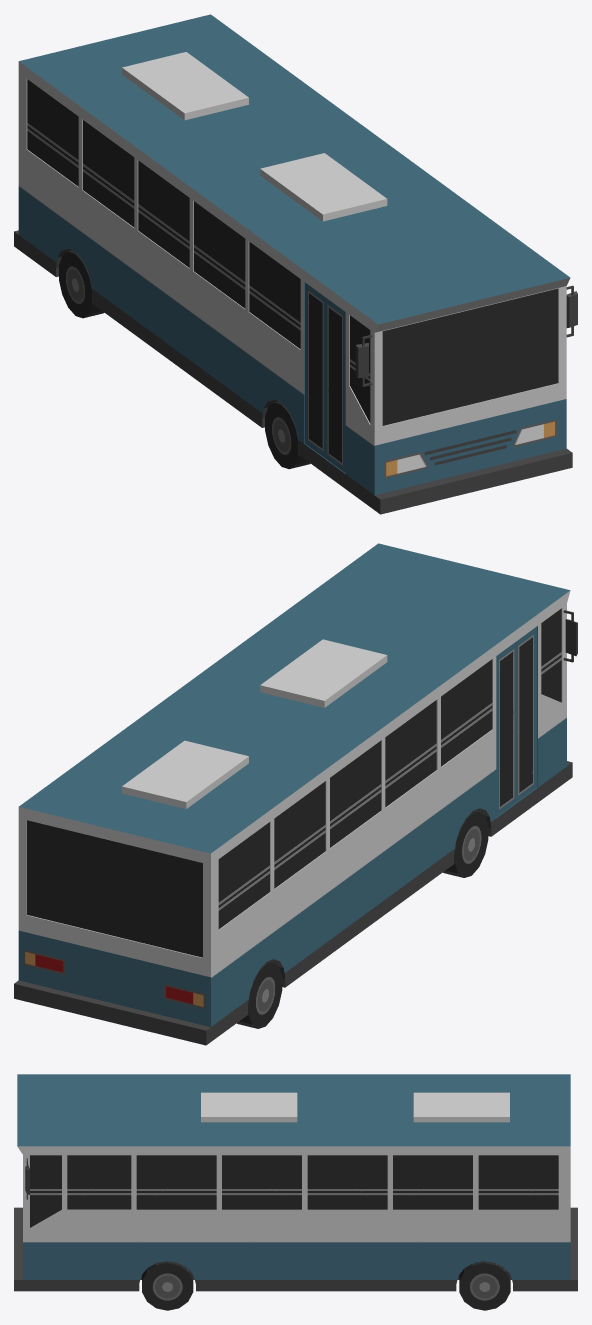
The model's file is bus.glb.
3 views of the same model, one above another, from view 1: azimuth 30°, elevation 25°; view 2: azimuth 150°, elevation 25°; view 3: azimuth 270°, elevation 25° (orthographic). The views are drawn at different scales.
Parts seen in each view (by area): view 1: Body, FR, RR; view 2: Body, RR, FR; view 3: Body, RL, FL.
Part boxes in pixels (x1,y1,x2,y2): Body: [14, 14, 577, 514]; FR: [265, 401, 310, 469]; RR: [59, 250, 104, 318]; Body: [14, 543, 577, 1045]; RR: [236, 961, 282, 1028]; FR: [443, 810, 488, 877]; Body: [14, 1074, 577, 1291]; RL: [459, 1261, 510, 1310]; FL: [142, 1261, 193, 1310].
Size of the model in its own units: 3.68 by 3.52 by 10.57.
Materials: 1 (1 with a texture image).
